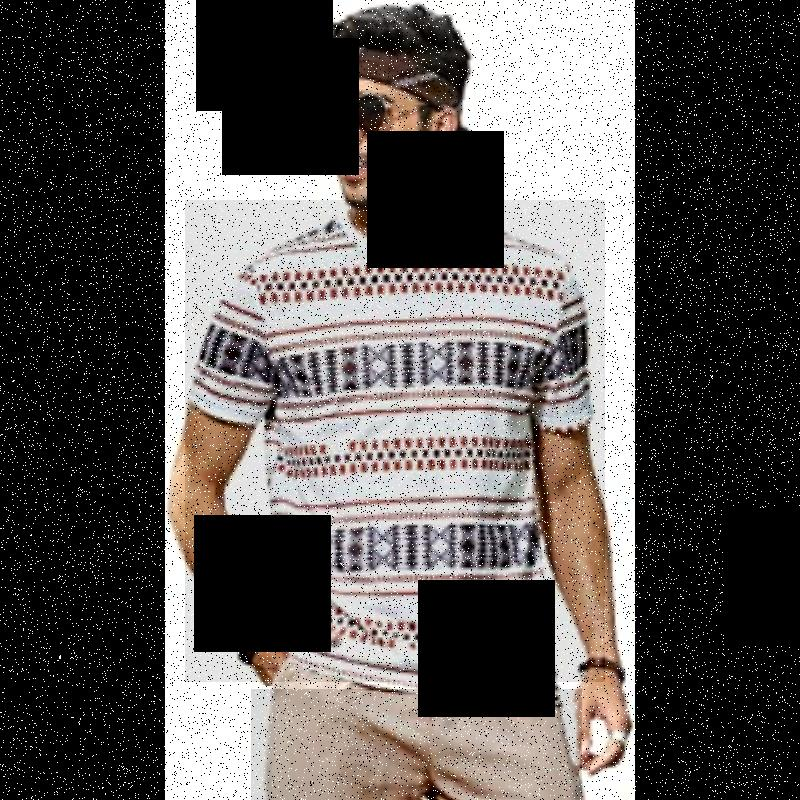Pant: (251, 689, 582, 800)
Tshirt: (185, 200, 605, 682)
